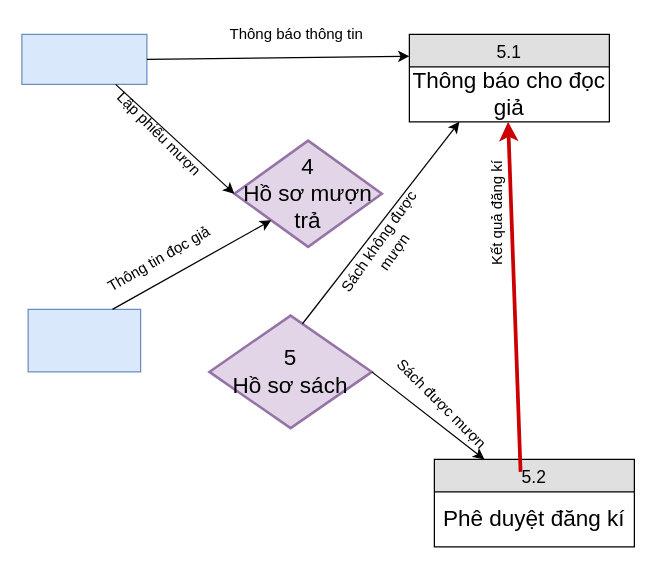
This 656x569 diagram has some shape labels left out. Each missing label, with the centre of its shape:
"Nhân viên" goes at (x=84, y=58).
"Đọc giả" goes at (x=84, y=340).
